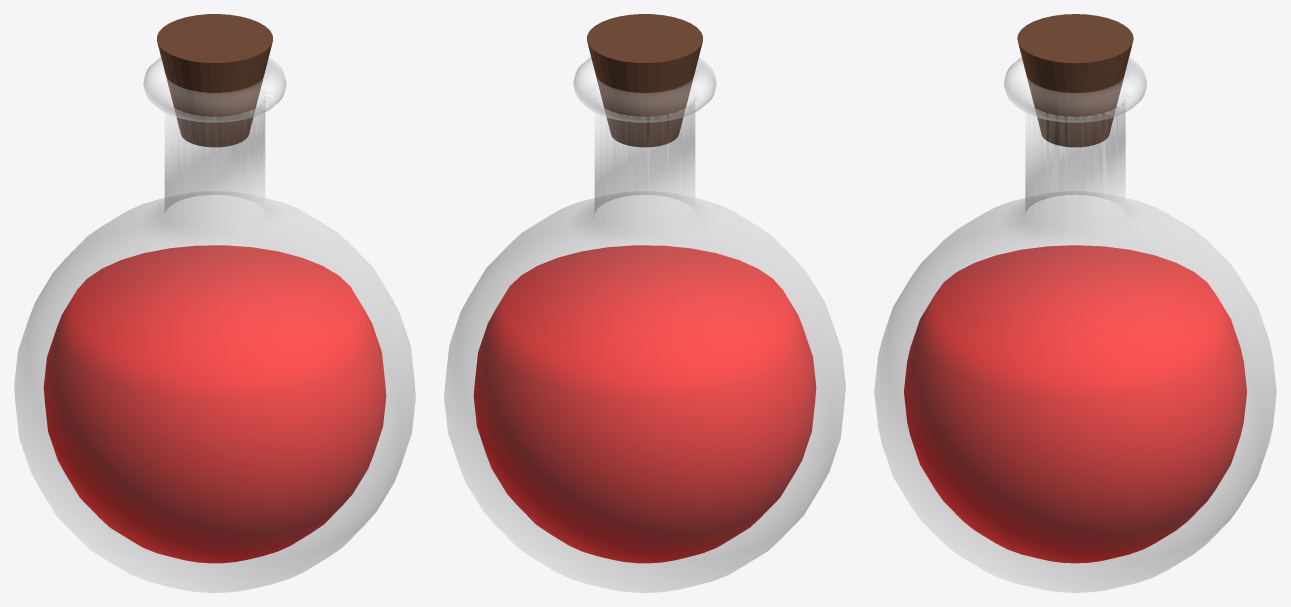
File: Potion.fbx
3 views of the same model, side by side, from view 1: azimuth 30°, elevation 25°; view 2: azimuth 150°, elevation 25°; view 3: azimuth 270°, elevation 25° (orthographic).
Visible parts, largest first — view 1: Potion, Liquid, Cap; view 2: Potion, Liquid, Cap; view 3: Potion, Liquid, Cap.
Boxes of the visible parts, bbox=[...] form: Potion: bbox=[14, 57, 415, 592]; Liquid: bbox=[43, 245, 386, 563]; Cap: bbox=[157, 14, 272, 147]; Potion: bbox=[444, 57, 845, 592]; Liquid: bbox=[473, 245, 816, 563]; Cap: bbox=[587, 14, 702, 147]; Potion: bbox=[874, 57, 1276, 592]; Liquid: bbox=[904, 245, 1246, 563]; Cap: bbox=[1017, 14, 1133, 147].
Size of the model in its own units: 137 by 201 by 137.
